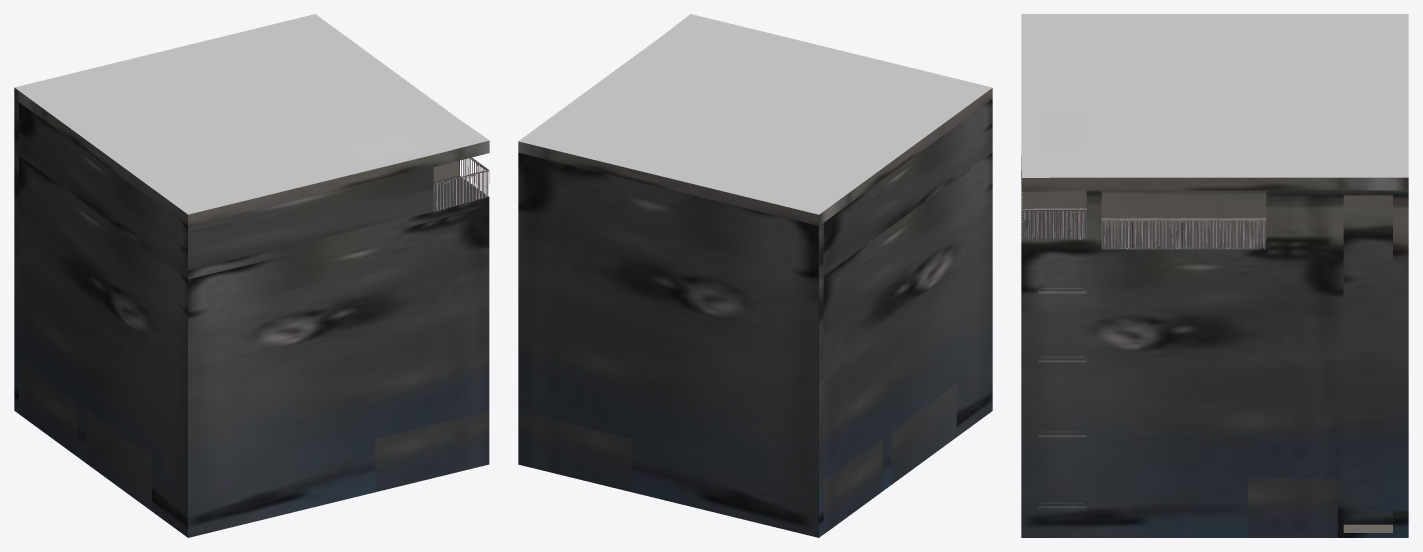
File: yk_aita_sininen_hervanta_talo.fbx
3 views of the same model, side by side, from view 1: azimuth 30°, elevation 25°; view 2: azimuth 150°, elevation 25°; view 3: azimuth 270°, elevation 25° (orthographic). The views are drawn at different scales.
Parts seen in each view (by area): view 1: Cube.003; view 2: Cube.003; view 3: Cube.003.
Part boxes in pixels (<box>): Cube.003: <box>14,14,489,537</box>; Cube.003: <box>518,14,992,537</box>; Cube.003: <box>1021,14,1408,537</box>.
Bounding box in the file's own units: 1211 × 1243 × 1208.
